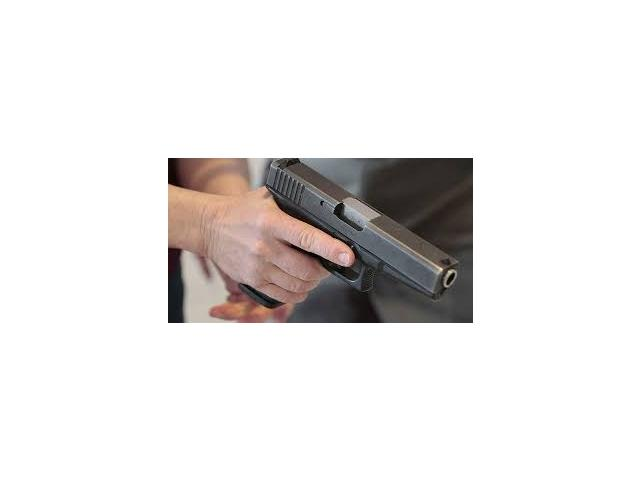pistol: (231, 159, 463, 311)
